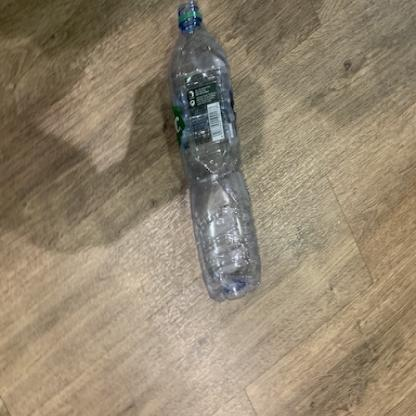trash: (165, 3, 261, 306)
